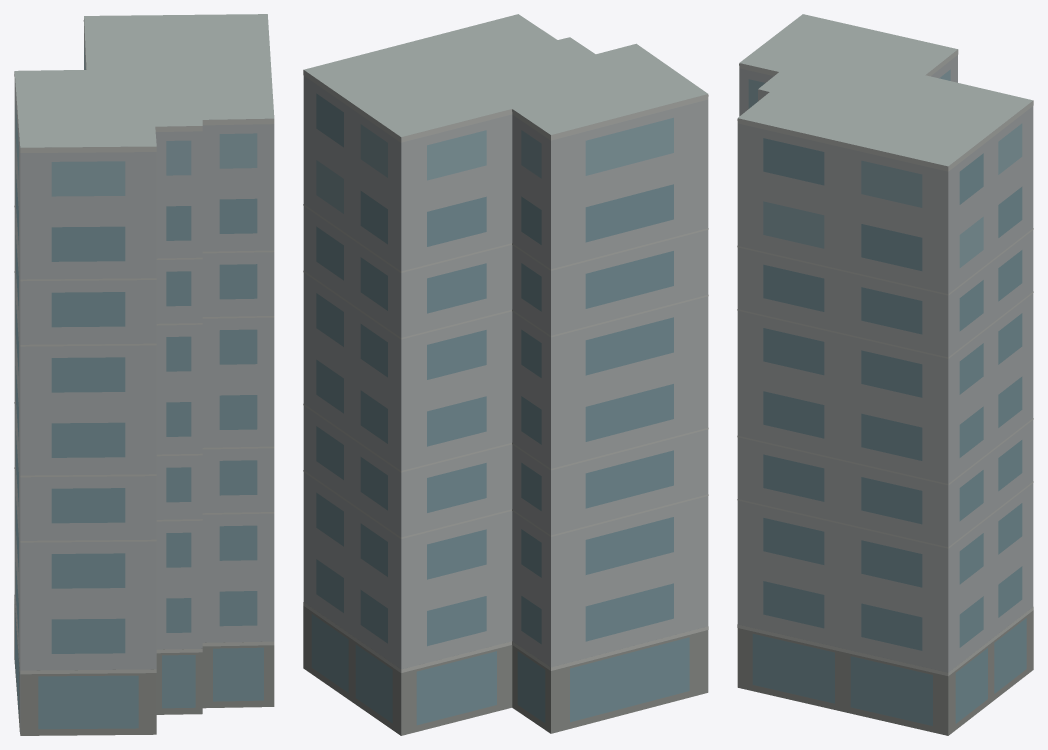
Rendered from survey-upis-33010908.glb.
The picture shows the model from 3 angles, left to right: view 1: azimuth 30°, elevation 25°; view 2: azimuth 150°, elevation 25°; view 3: azimuth 270°, elevation 25°; orthographic projection. The views are drawn at different scales.
Parts seen in each view (by area): view 1: survey-upis-33010908.tmp; view 2: survey-upis-33010908.tmp; view 3: survey-upis-33010908.tmp.
Part boxes in pixels (bbox=[...]): survey-upis-33010908.tmp: bbox=[14, 14, 274, 735]; survey-upis-33010908.tmp: bbox=[303, 14, 708, 735]; survey-upis-33010908.tmp: bbox=[737, 14, 1033, 735].
Bounding box in the file's own units: 15.06 × 26.2 × 12.36.
